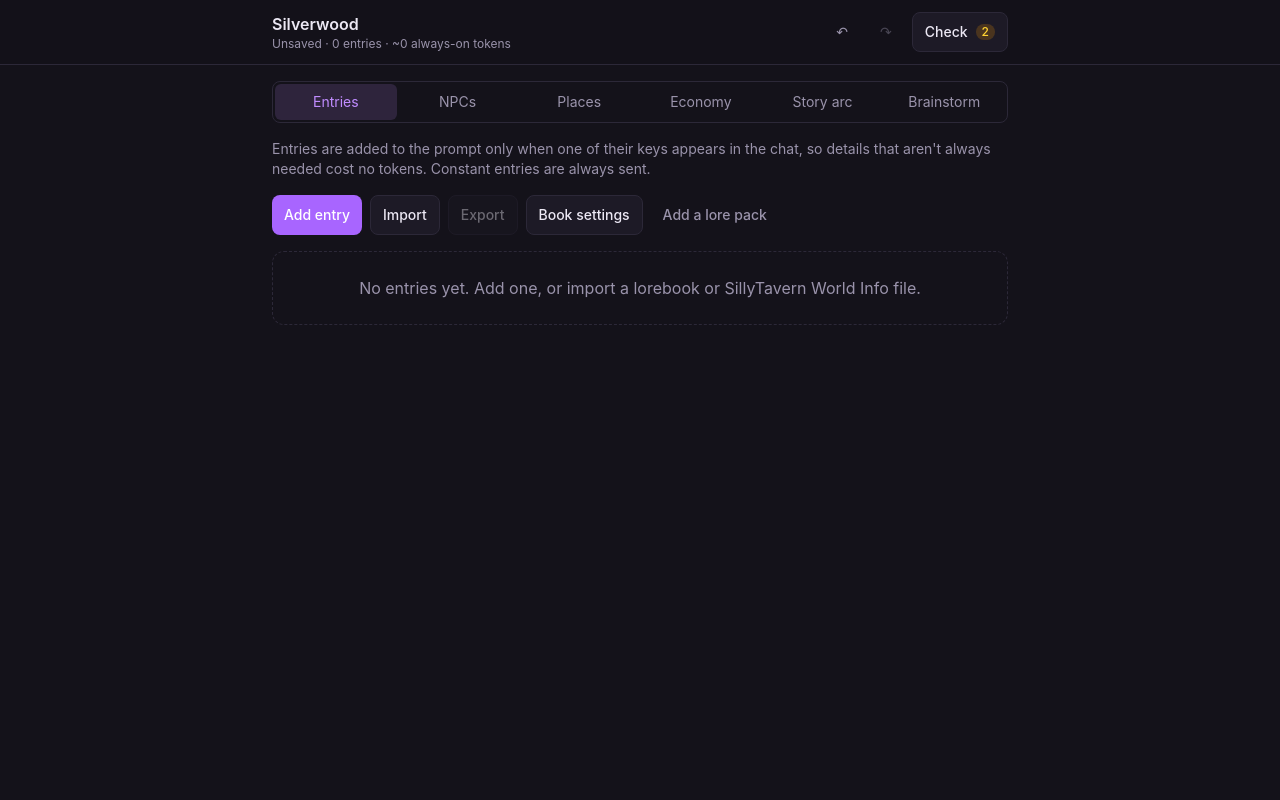
Test: NPC scan › finds the card's NPCs and adds them all at once
Click the tab "NPCs".
click(458, 102)  # box [397, 84, 518, 120]
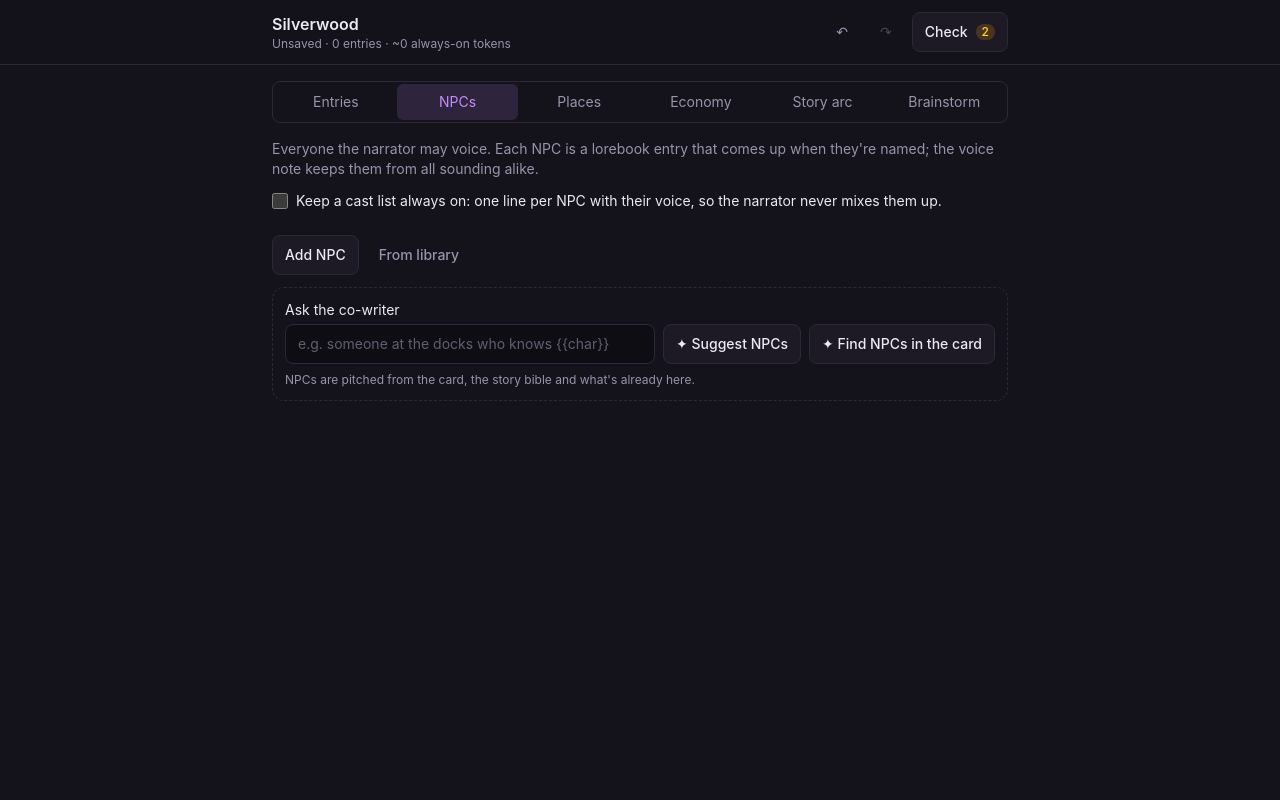
Click the button "✦ Find NPCs in the card".
click(902, 344)  # box [809, 324, 995, 364]
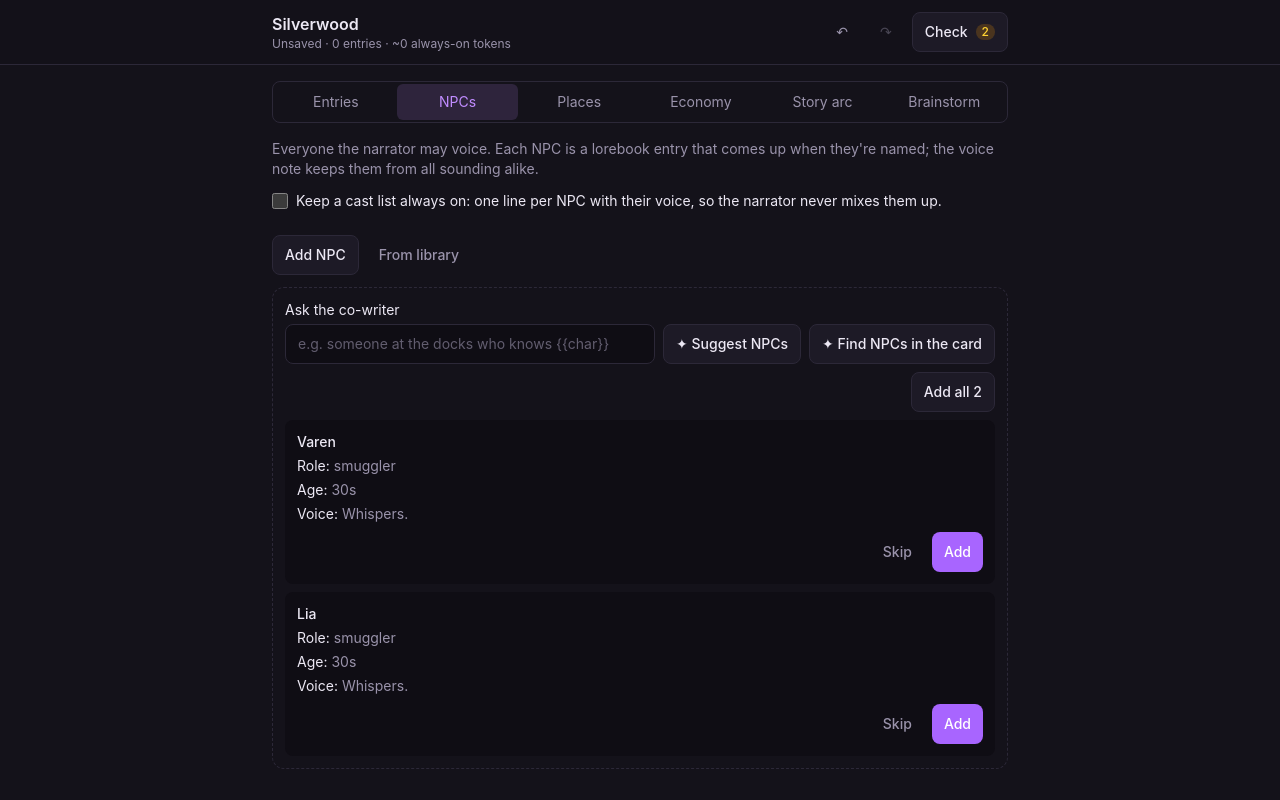
Click the button "Add all 2".
click(953, 392)  # box [911, 372, 995, 412]
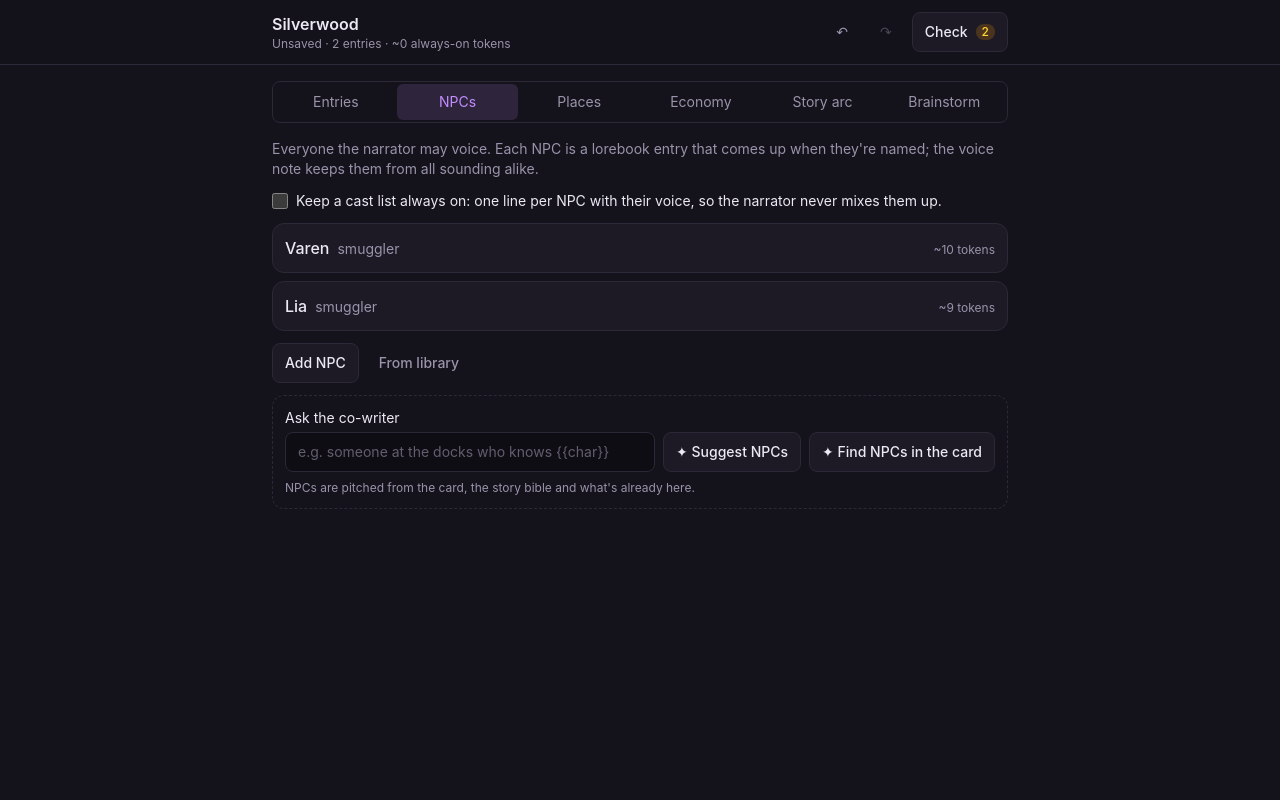
Click the button "✦ Find NPCs in the card".
click(902, 452)  # box [809, 432, 995, 472]
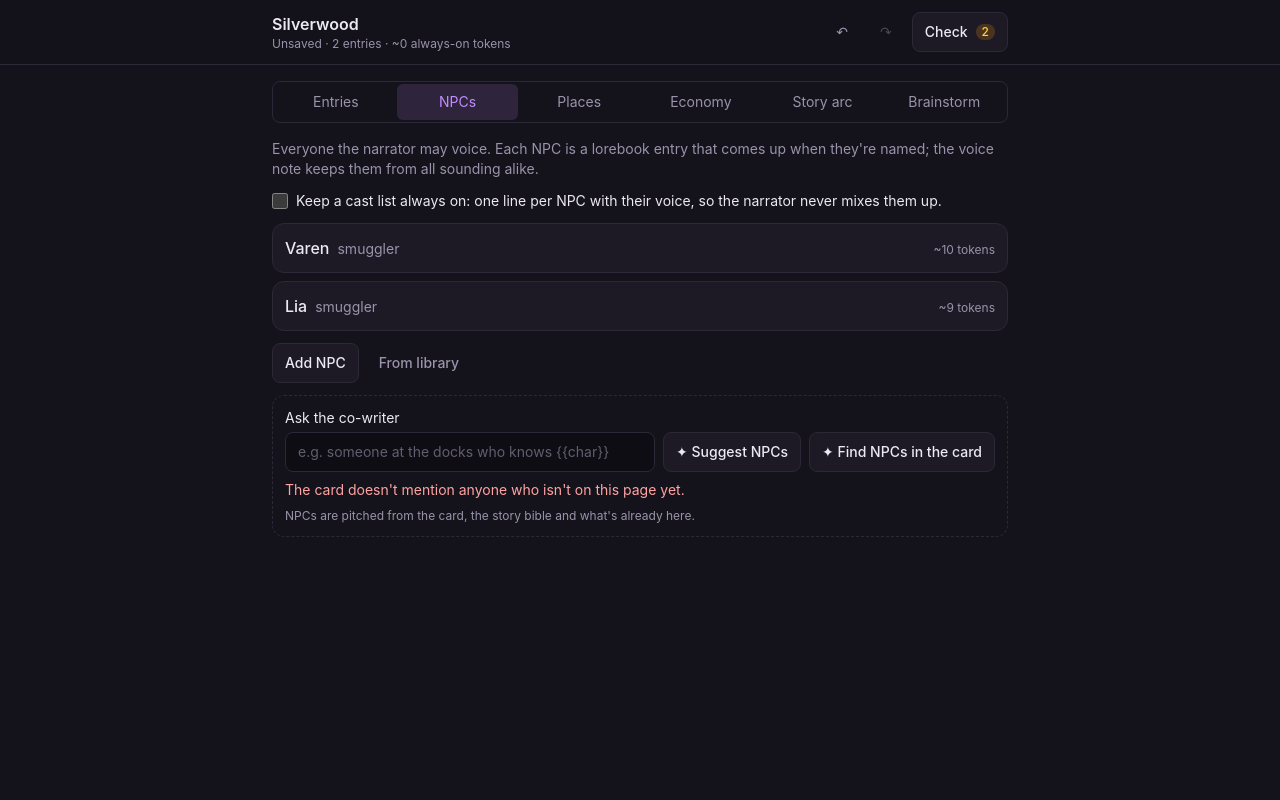
Check: the text "The card doesn't mention anyone who isn't on this page yet." is shown, box [285, 481, 685, 498]
